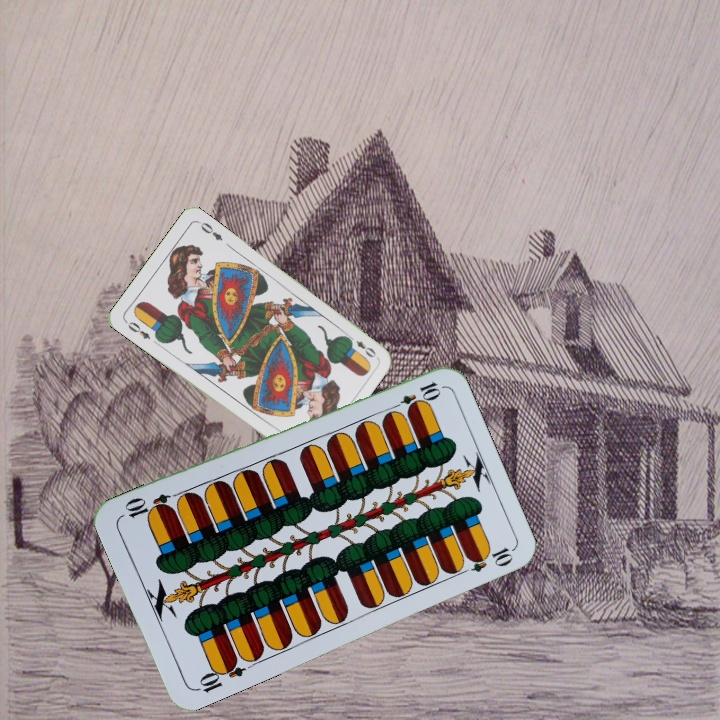E10: (191, 654, 248, 696), (386, 377, 443, 414)
EO: (343, 331, 379, 360), (124, 317, 153, 342)
